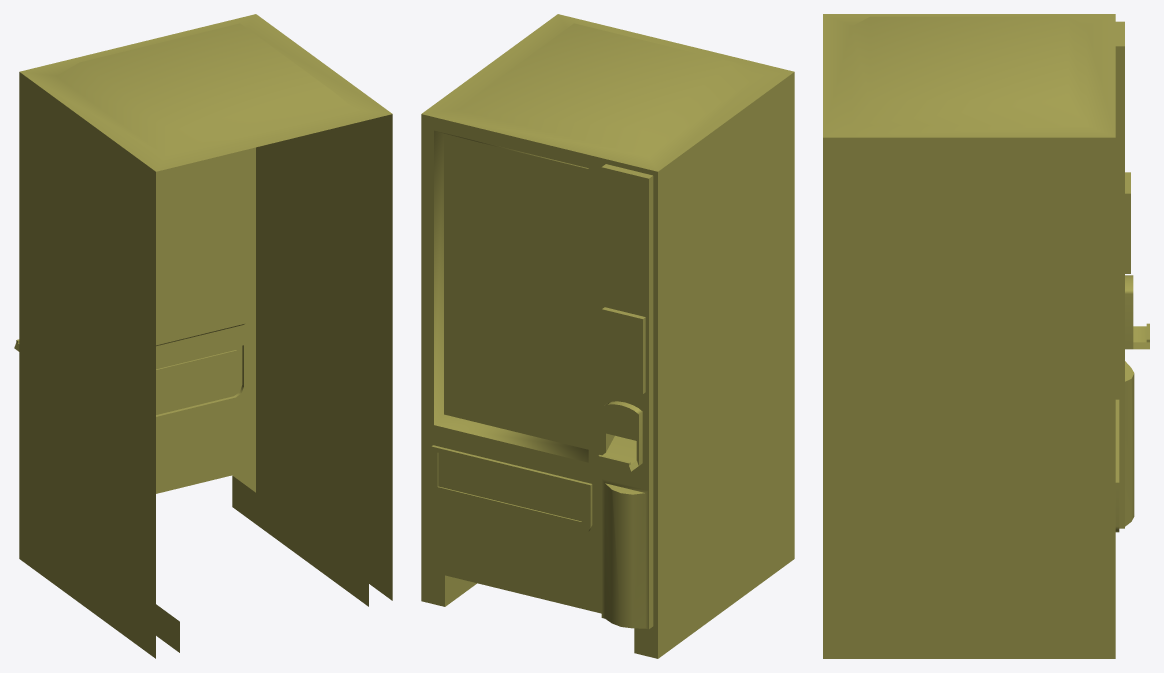
The model's file is Vending_machine.fbx.
3 renders of one model, left to right at view 1: azimuth 30°, elevation 25°; view 2: azimuth 150°, elevation 25°; view 3: azimuth 270°, elevation 25°, orthographic. The views are drawn at different scales.
Visible parts, largest first — view 1: Vending_machine; view 2: Vending_machine; view 3: Vending_machine.
Boxes of the visible parts, <box> form: Vending_machine: <box>14,14,392,658</box>; Vending_machine: <box>421,14,794,658</box>; Vending_machine: <box>823,14,1149,658</box>.
Size of the model in its own units: 188 by 381 by 209.
